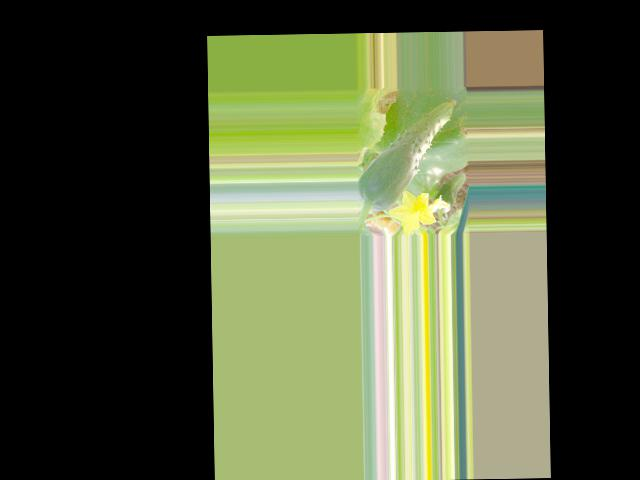cucumber: (356, 99, 458, 211)
